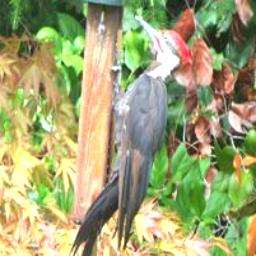Woodpecker: (69, 13, 194, 256)
